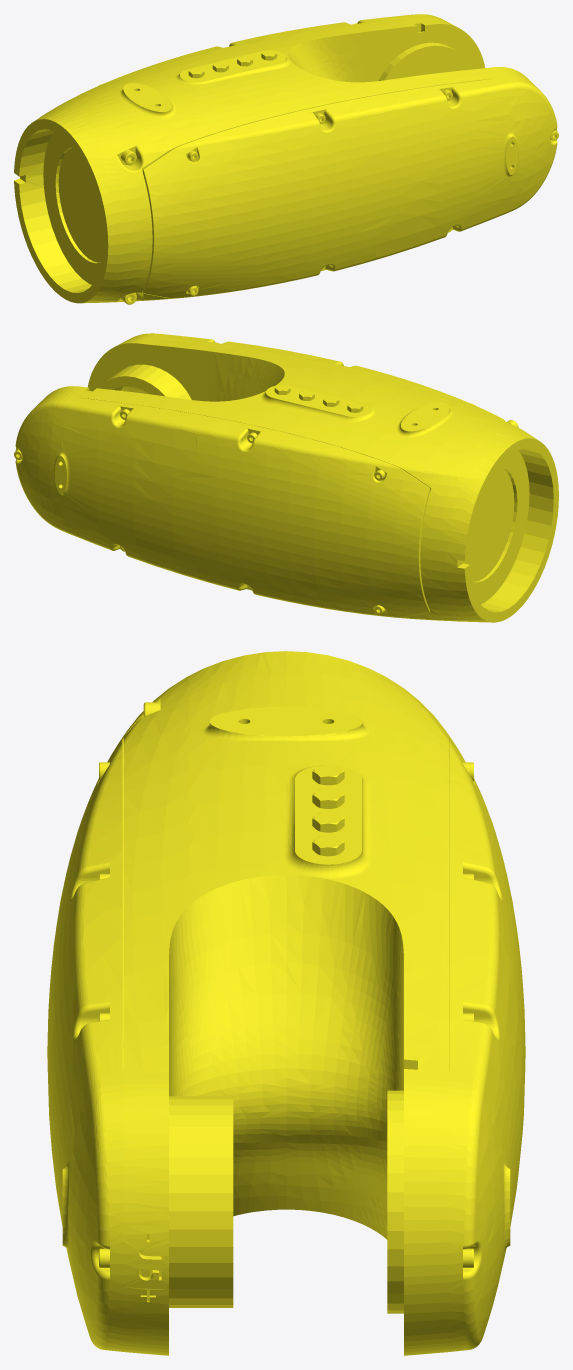
3 views of the same model, one above another, from view 1: azimuth 30°, elevation 25°; view 2: azimuth 150°, elevation 25°; view 3: azimuth 270°, elevation 25° (orthographic). The views are drawn at different scales.
Parts seen in each view (by area): view 1: Link4; view 2: Link4; view 3: Link4.
Boxes of the visible parts, bbox=[...] form: Link4: bbox=[14, 14, 558, 304]; Link4: bbox=[14, 333, 558, 622]; Link4: bbox=[47, 651, 525, 1355].
Size of the model in its own units: 0.3751 by 0.171 by 0.1486.
